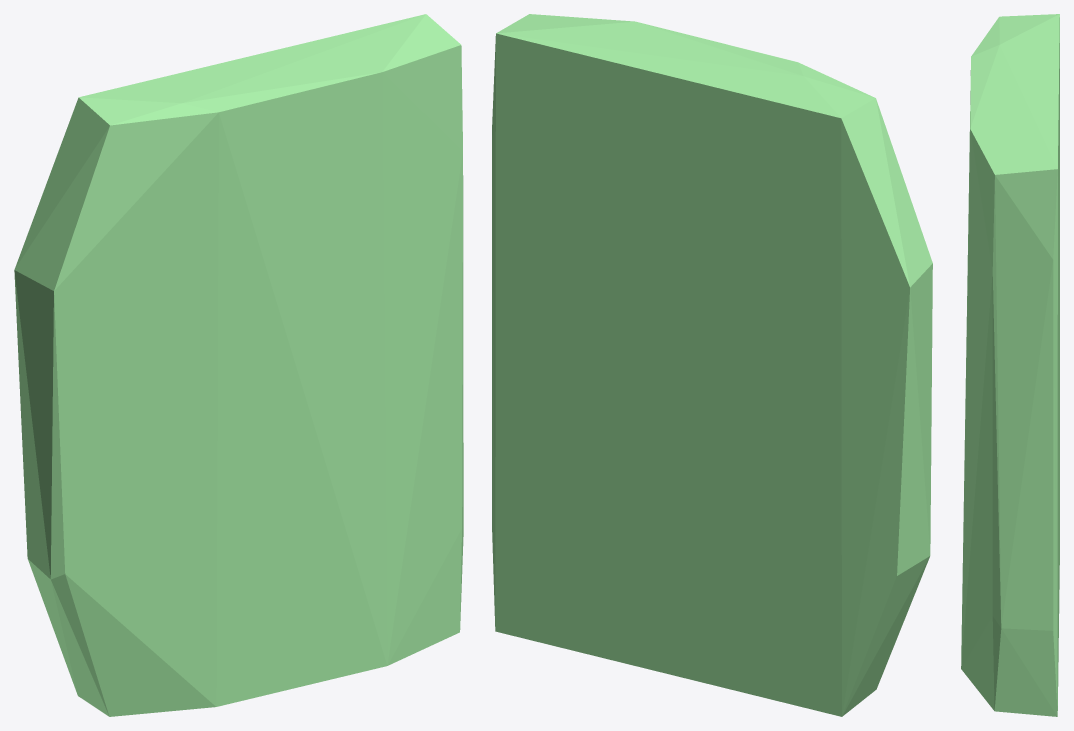
File: exported_panda_leftFinger_coll_3.dae
3 views of the same model, side by side, from view 1: azimuth 30°, elevation 25°; view 2: azimuth 150°, elevation 25°; view 3: azimuth 270°, elevation 25° (orthographic). The views are drawn at different scales.
Parts seen in each view (by area): view 1: node; view 2: node; view 3: node.
Part boxes in pixels (x1=…): node: x1=14, y1=14, x2=463, y2=716; node: x1=492, y1=14, x2=932, y2=716; node: x1=961, y1=14, x2=1059, y2=716.
Size of the model in its own units: 0.0154 by 0.021 by 0.00342.
